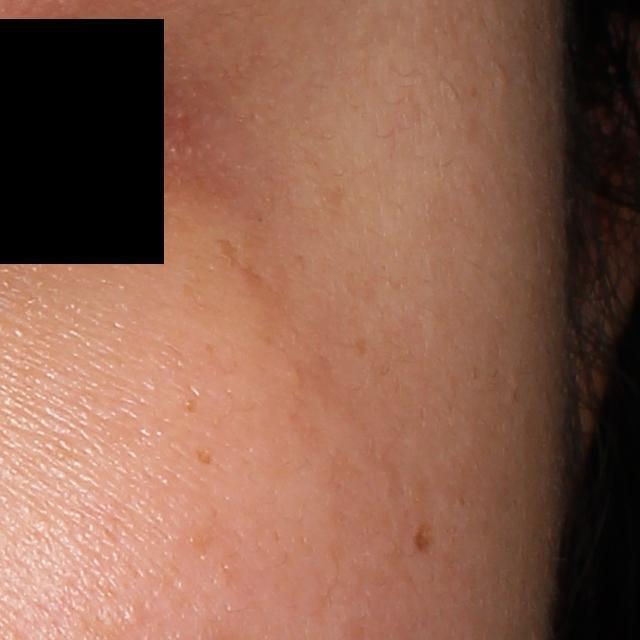melasma: (242, 266, 305, 348), (211, 233, 257, 278), (410, 515, 438, 558), (351, 334, 372, 359), (192, 447, 214, 467), (183, 396, 201, 417)
